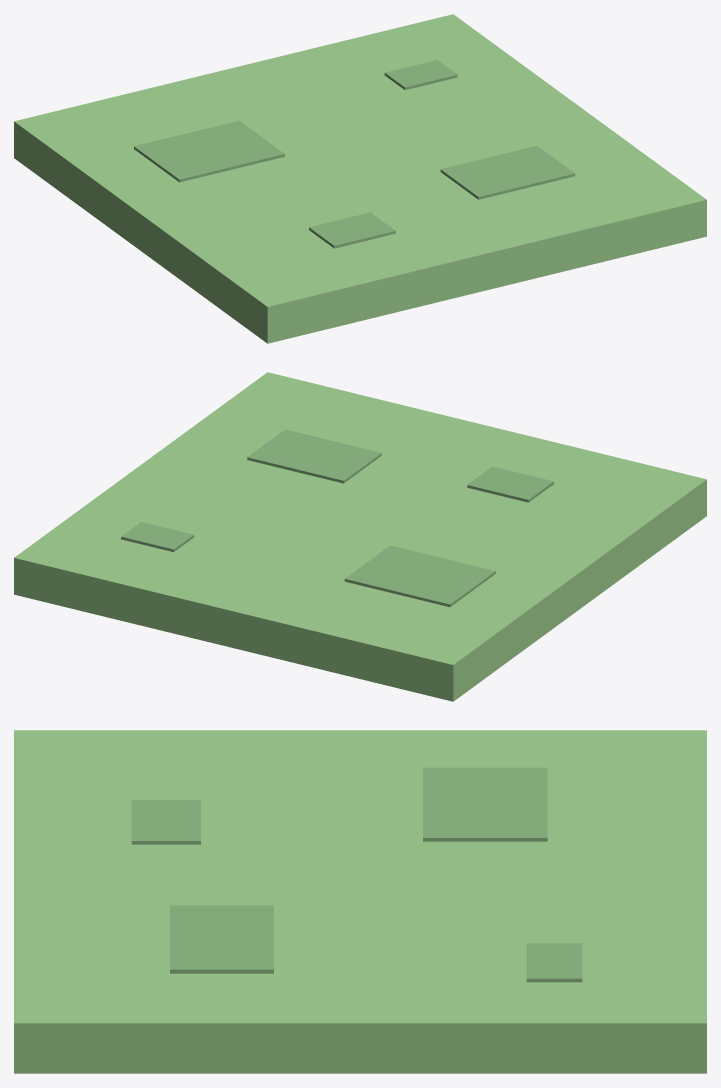
File: grass.glb
The picture shows the model from 3 angles, top to bottom: view 1: azimuth 30°, elevation 25°; view 2: azimuth 150°, elevation 25°; view 3: azimuth 270°, elevation 25°; orthographic projection. The views are drawn at different scales.
Parts seen in each view (by area): view 1: grass_tile, grass_patch_0, grass_patch_1, grass_patch_2, grass_patch_3; view 2: grass_tile, grass_patch_0, grass_patch_1, grass_patch_2, grass_patch_3; view 3: grass_tile, grass_patch_0, grass_patch_1, grass_patch_2, grass_patch_3.
Part boxes in pixels (x1=…): grass_tile: x1=14, y1=14, x2=706, y2=343; grass_patch_0: x1=134, y1=120, x2=284, y2=182; grass_patch_1: x1=440, y1=146, x2=575, y2=199; grass_patch_2: x1=309, y1=212, x2=395, y2=248; grass_patch_3: x1=384, y1=60, x2=457, y2=90; grass_tile: x1=14, y1=372, x2=706, y2=701; grass_patch_0: x1=344, y1=545, x2=495, y2=607; grass_patch_1: x1=247, y1=429, x2=381, y2=483; grass_patch_2: x1=467, y1=466, x2=553, y2=502; grass_patch_3: x1=121, y1=522, x2=194, y2=552; grass_tile: x1=14, y1=730, x2=706, y2=1073; grass_patch_0: x1=423, y1=767, x2=547, y2=841; grass_patch_1: x1=170, y1=905, x2=273, y2=973; grass_patch_2: x1=131, y1=800, x2=200, y2=844; grass_patch_3: x1=526, y1=943, x2=582, y2=982.
Size of the model in its own units: 1 by 0.086 by 1.
